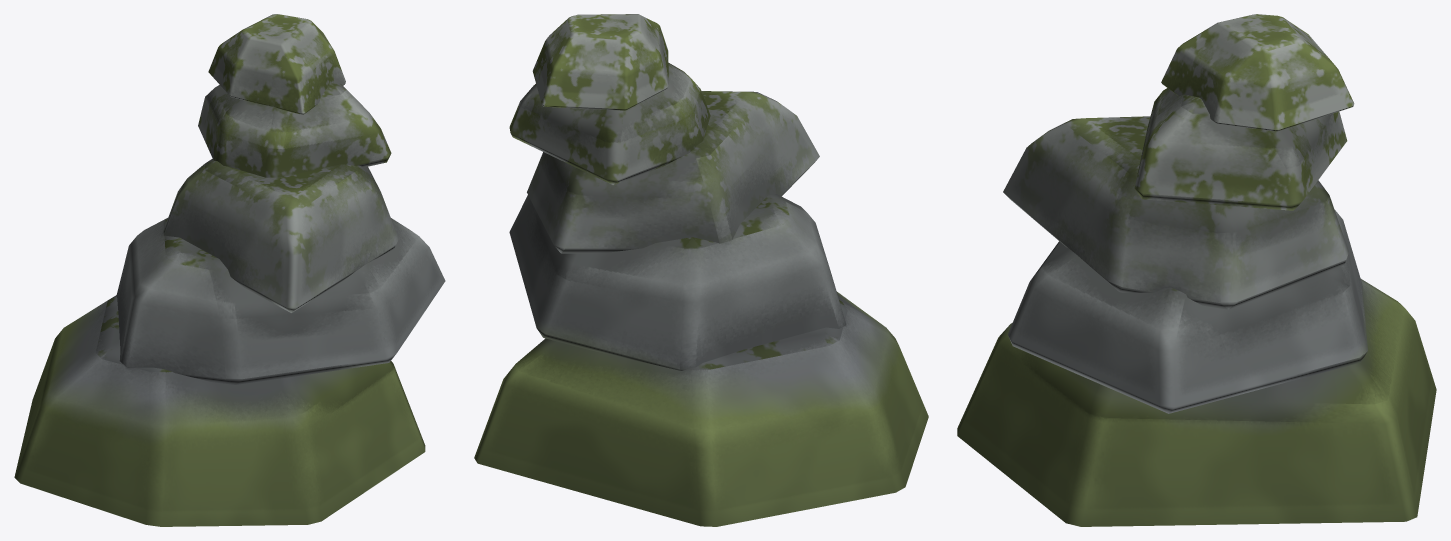
The model's file is stack_2_mossy.glb.
3 views of the same model, side by side, from view 1: azimuth 30°, elevation 25°; view 2: azimuth 150°, elevation 25°; view 3: azimuth 270°, elevation 25° (orthographic). The views are drawn at different scales.
Parts seen in each view (by area): view 1: stack_2_mossy; view 2: stack_2_mossy; view 3: stack_2_mossy.
Boxes of the visible parts, x1,y1,x2,y2 form: stack_2_mossy: (14,14,445,526); stack_2_mossy: (474,14,928,526); stack_2_mossy: (957,14,1436,526).
Size of the model in its own units: 1.2 by 1.1 by 1.05.
Materials: 1 (1 with a texture image).
